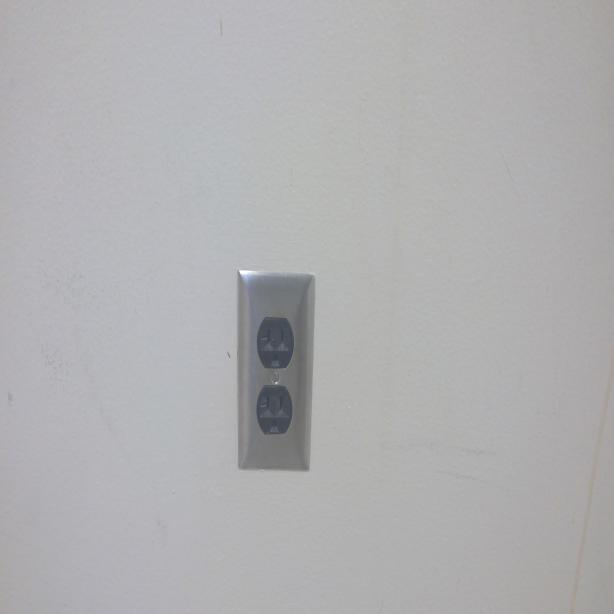typeb: (259, 313, 294, 372), (258, 387, 291, 439)
